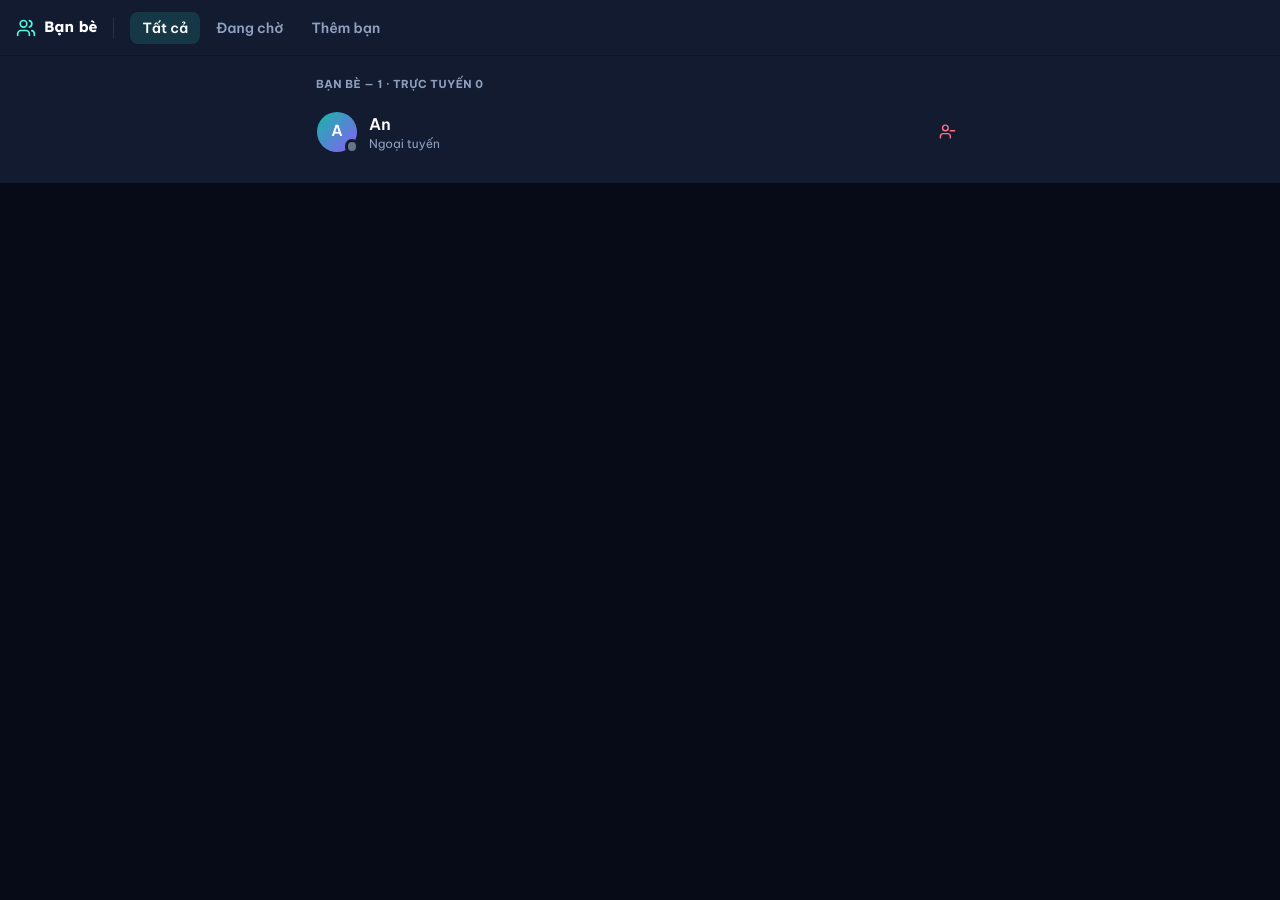
Test: trang Bạn bè › hủy kết bạn phải xác nhận trước
The width and height of the screenshot is (1280, 900).
Later steps or results of the test are not shown.
What coordinates should you click on to do the following:
click the button named "Hủy kết bạn"
I would click on:
 (947, 132)
Its box is [931, 116, 963, 148].
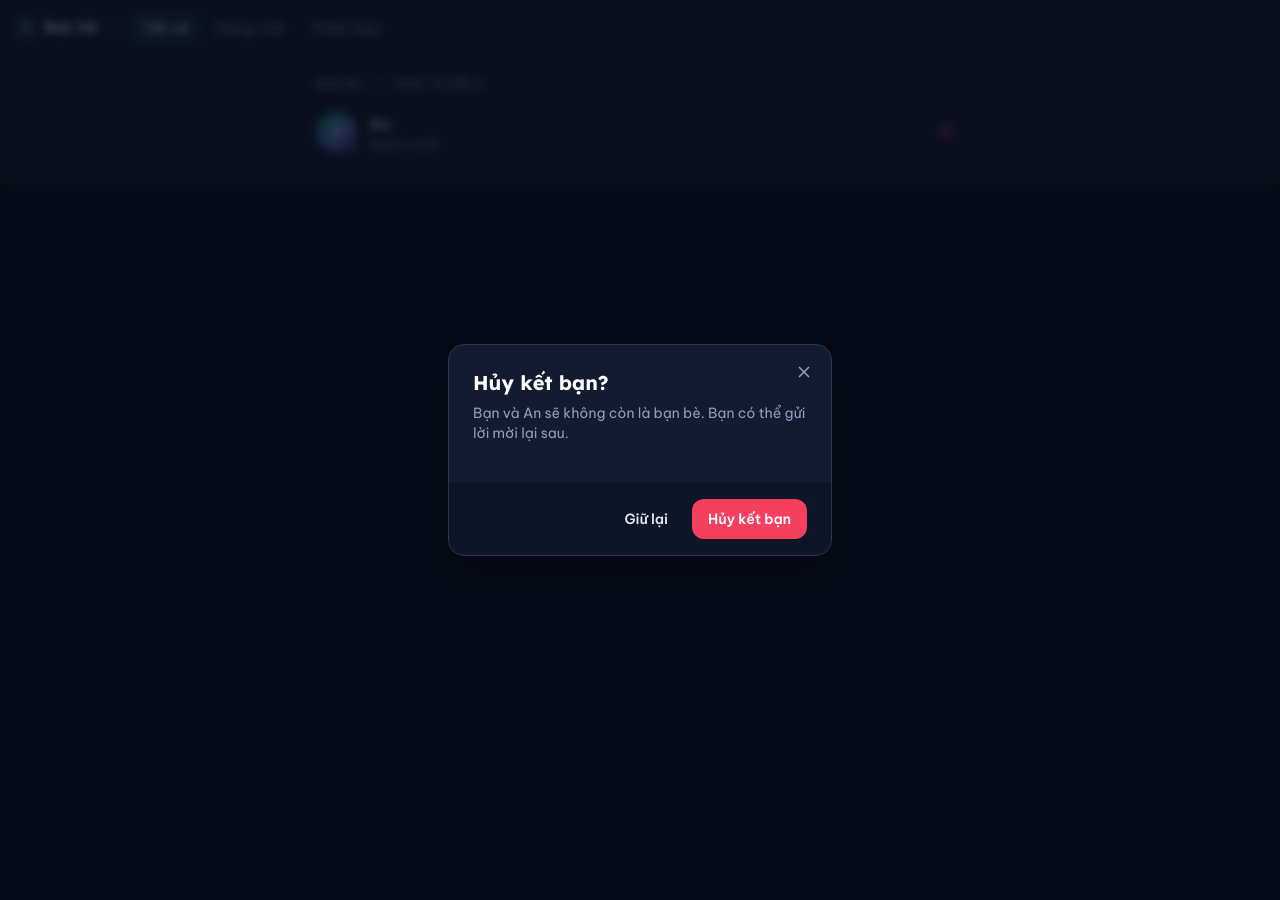
Result: the heading "Hủy kết bạn?" is shown at [473, 370, 609, 395]
